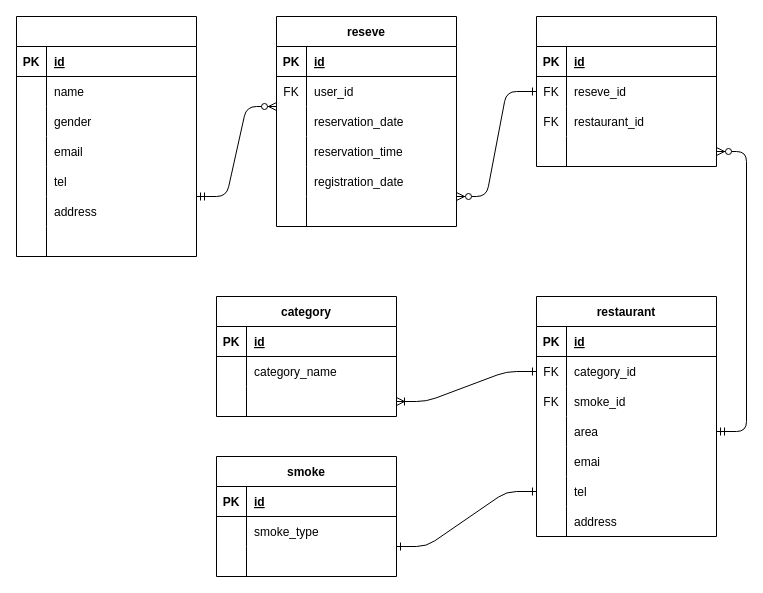
The diagram is 763 pixels wide and 593 high, and some of its shapes have lost their labels. The box of each missing label's shape, as (x1, y1, x2, y2) in pixels:
reserve_detail: (536, 16, 716, 166)
user: (16, 16, 196, 256)
